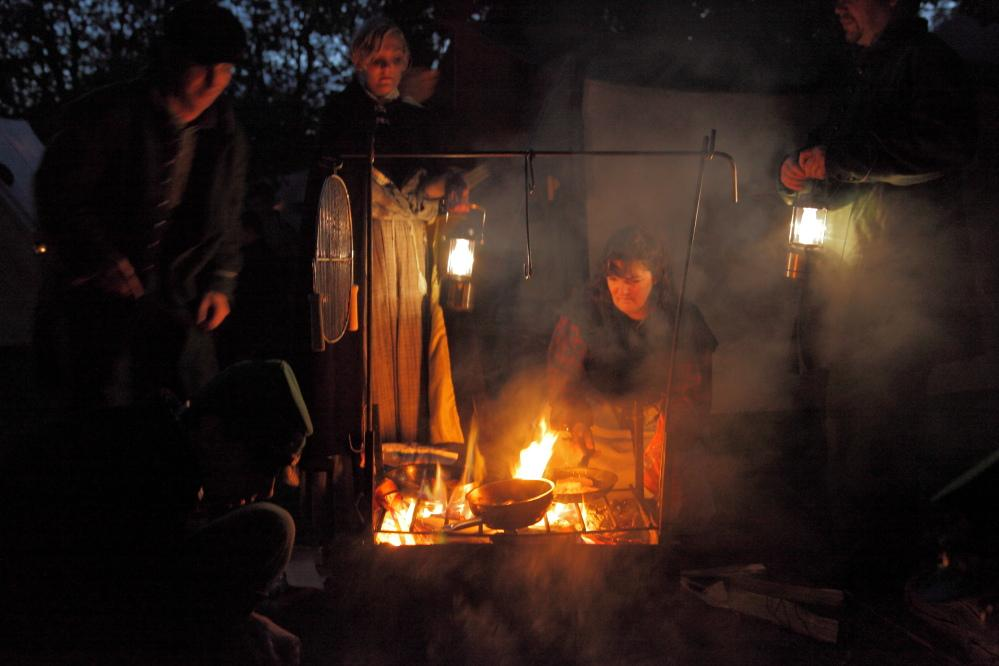fire: (442, 238, 488, 295), (517, 422, 557, 487), (382, 492, 423, 552), (797, 202, 823, 253)
